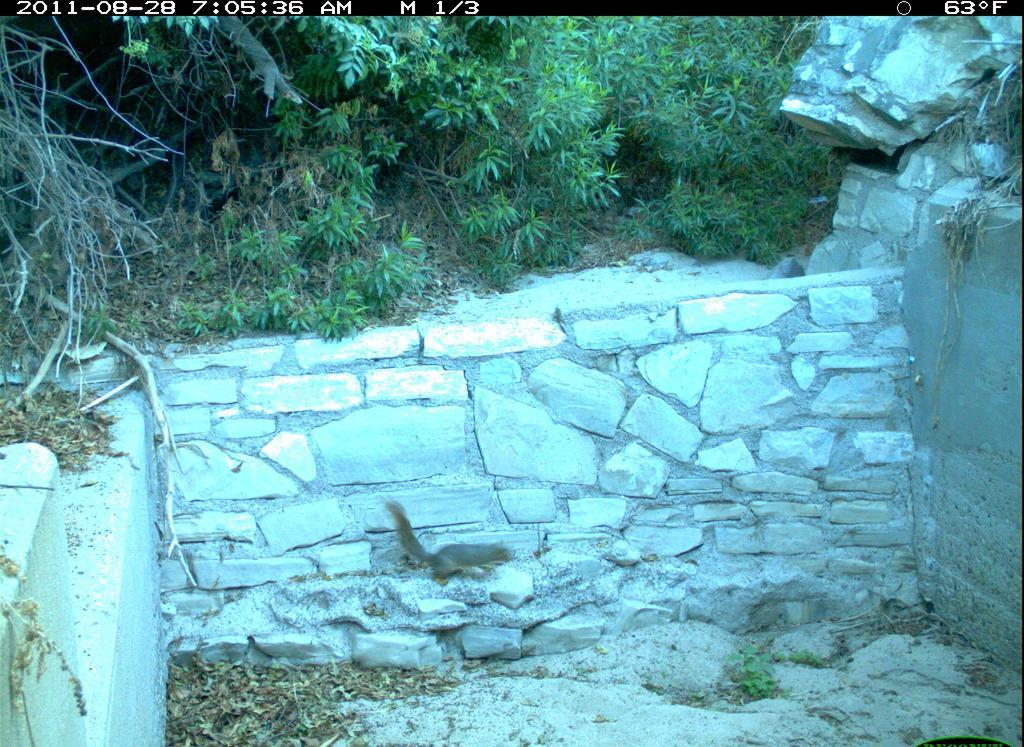squirrel: (367, 493, 532, 600)
